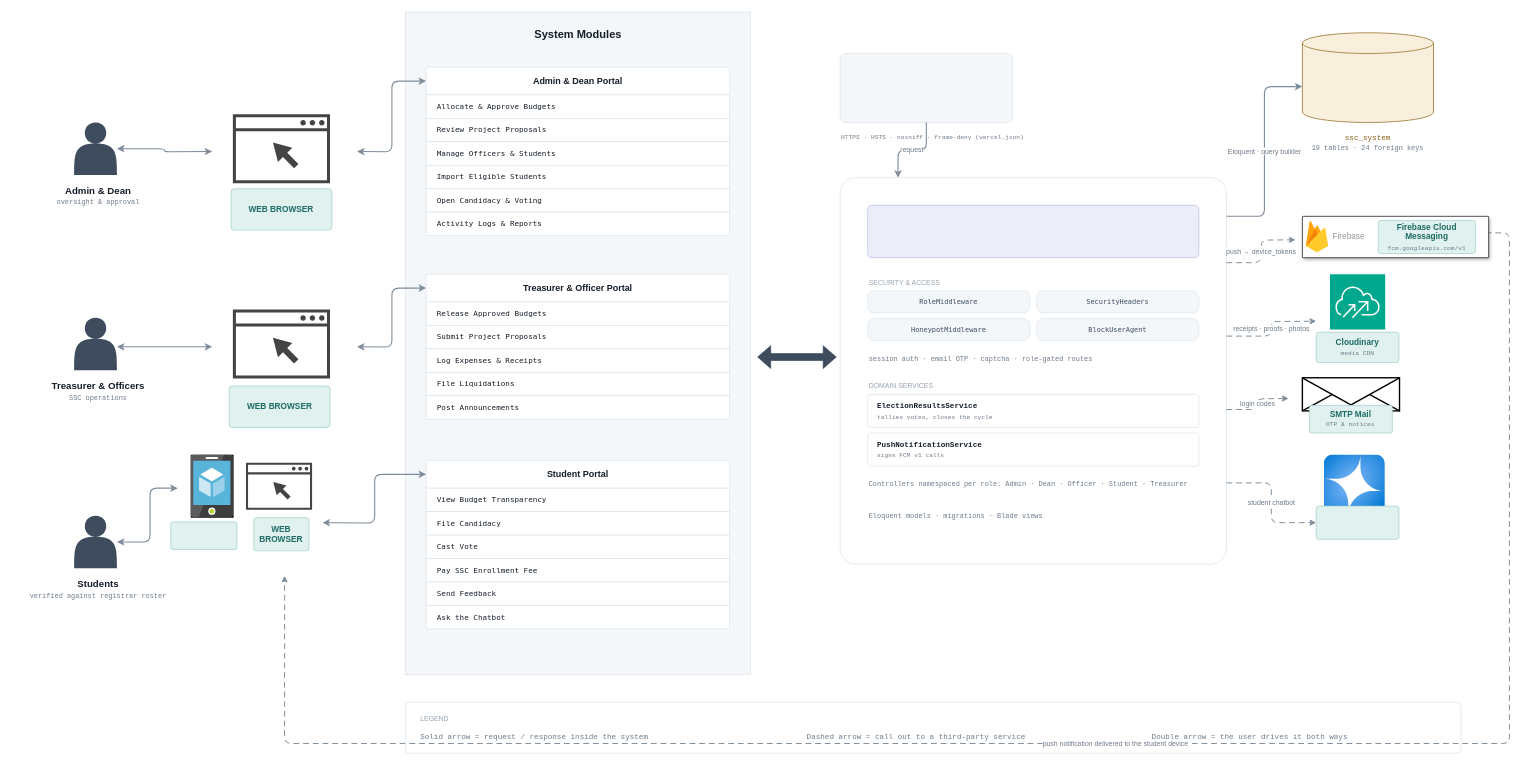
This 1527x765 diagram has some shape labels left out. The centre of each missing label's shape, as x and y in pixels:
"MOBILE APPLICATION" belongs at point (203, 535).
"MySQL" belongs at point (1367, 77).
"OpenAI API chat/completions" belongs at point (1357, 522).
"SSC Transparency System Laravel 12 · PHP 8.2 · Blade · Tailwind 4" belongs at point (1033, 231).
"Web Server Vercel serverless PHP api/index.php · vercel-php 0.9" belongs at point (926, 87).
